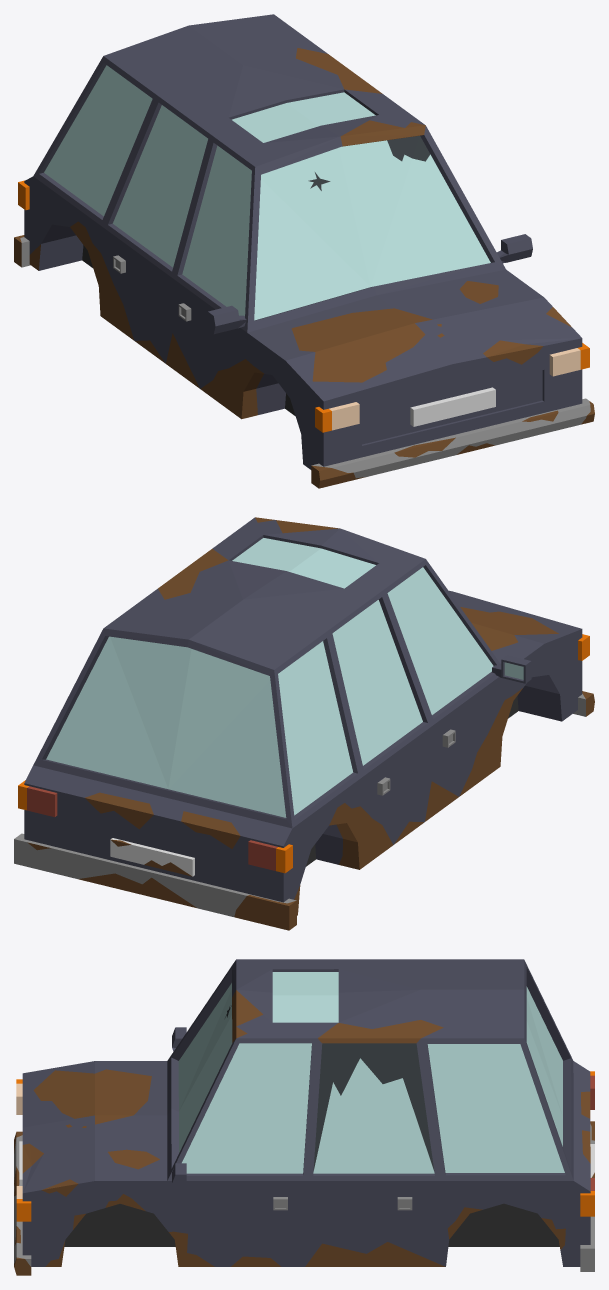
Rendered from OldCar_01.fbx.
The picture shows the model from 3 angles, top to bottom: view 1: azimuth 30°, elevation 25°; view 2: azimuth 150°, elevation 25°; view 3: azimuth 270°, elevation 25°; orthographic projection. The views are drawn at different scales.
Visible parts, largest first — view 1: OldCar_01; view 2: OldCar_01; view 3: OldCar_01.
Boxes of the visible parts, box(x1,y1,x2,y2) form: OldCar_01: box(14, 14, 594, 488); OldCar_01: box(14, 517, 594, 930); OldCar_01: box(14, 959, 594, 1275).
Bounding box in the file's own units: 198 × 139 × 330.
